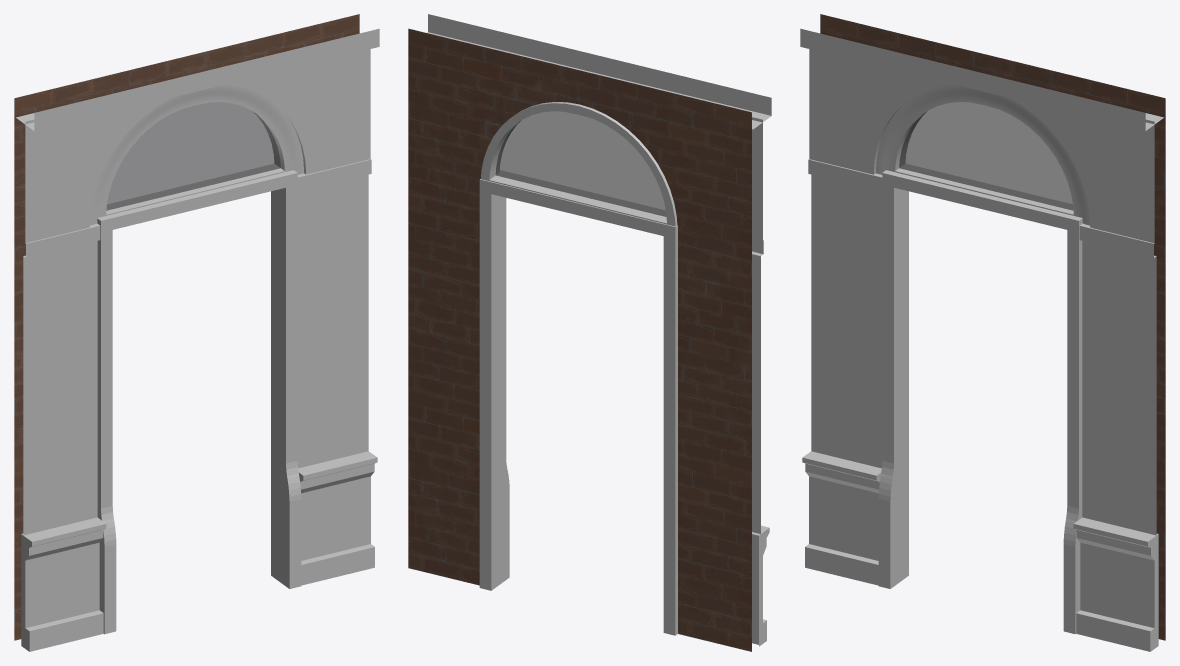
File: DoorFrame_Trim.gltf
3 views of the same model, side by side, from view 1: azimuth 30°, elevation 25°; view 2: azimuth 150°, elevation 25°; view 3: azimuth 330°, elevation 25° (orthographic).
Parts seen in each view (by area): view 1: DoorFrame_Trim; view 2: DoorFrame_Trim; view 3: DoorFrame_Trim.
Boxes of the visible parts, bbox=[...] form: DoorFrame_Trim: bbox=[14, 14, 379, 651]; DoorFrame_Trim: bbox=[408, 14, 771, 651]; DoorFrame_Trim: bbox=[800, 14, 1165, 651].
Bounding box in the file's own units: 2 × 3 × 0.2256.
